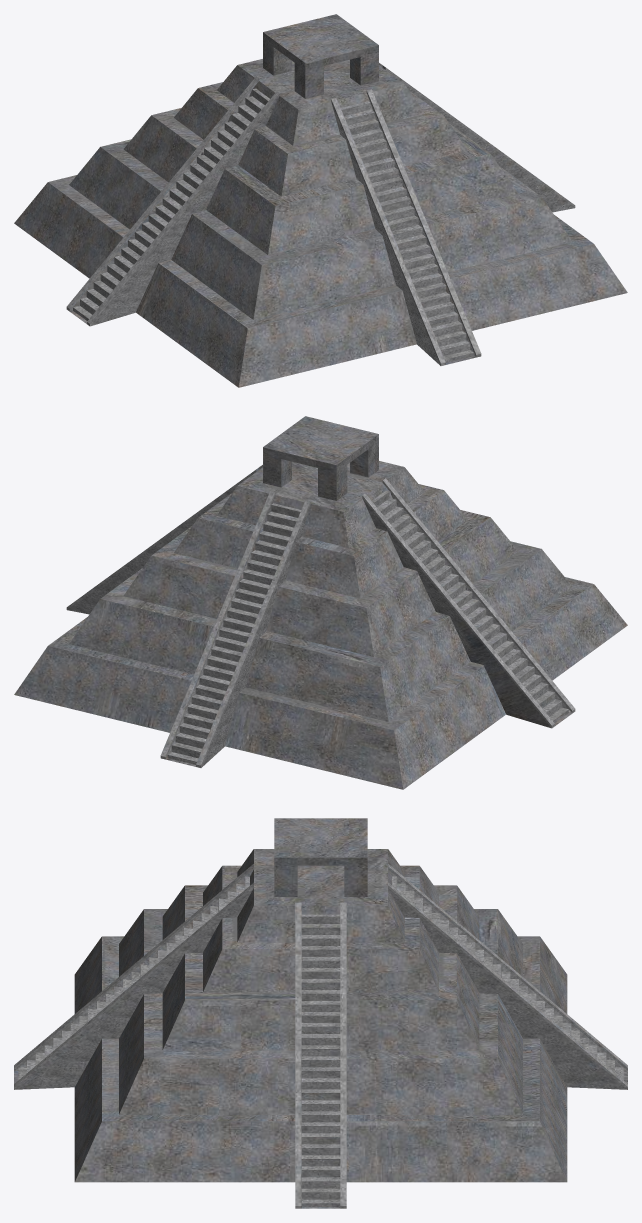
File: pyramid_stepped.glb
3 renders of one model, top to bottom at view 1: azimuth 30°, elevation 25°; view 2: azimuth 150°, elevation 25°; view 3: azimuth 270°, elevation 25°, orthographic. The views are drawn at different scales.
Visible parts, largest first — view 1: Object_4; view 2: Object_4; view 3: Object_4.
Part boxes in pixels (<box>): Object_4: <box>14,14,627,387</box>; Object_4: <box>14,416,627,789</box>; Object_4: <box>14,818,627,1208</box>.
Bounding box in the file's own units: 62.04 × 26.88 × 62.04.
Materials: 1 (1 with a texture image).
